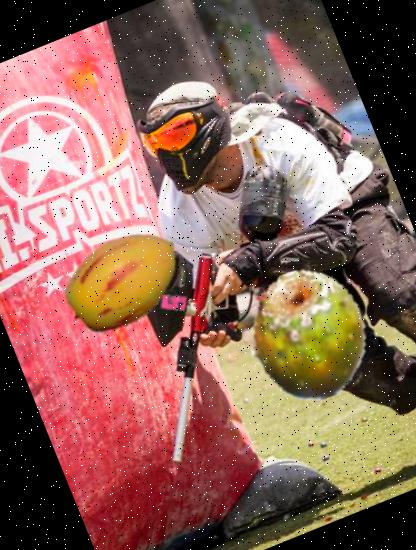Cactus: (221, 250, 393, 422)
Pepino: (43, 198, 206, 362)
